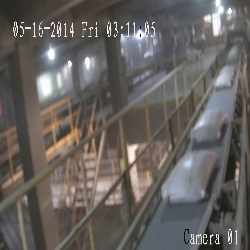cementbag: (161, 149, 216, 204), (190, 107, 228, 142)
